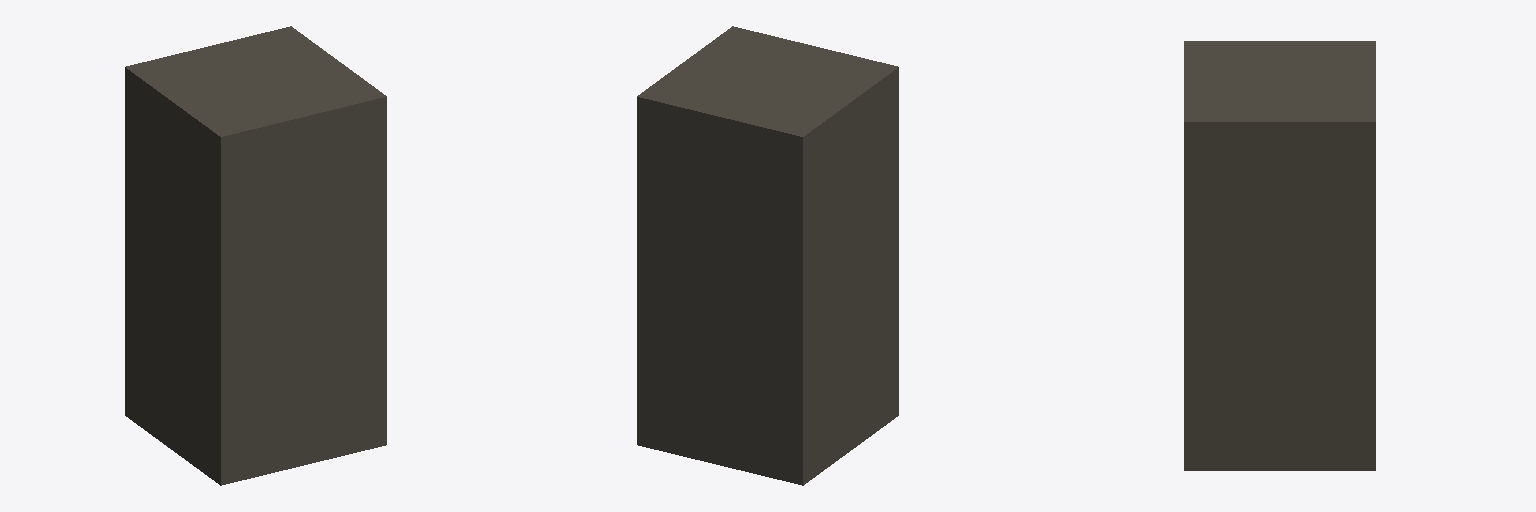
3 views of the same model, side by side, from view 1: azimuth 30°, elevation 25°; view 2: azimuth 150°, elevation 25°; view 3: azimuth 270°, elevation 25° (orthographic).
Parts seen in each view (by area): view 1: Untitled; view 2: Untitled; view 3: Untitled.
Part boxes in pixels (x1,y1,x2,y2): Untitled: (125,26,386,485); Untitled: (637,26,898,485); Untitled: (1184,41,1375,470).
Size of the model in its own units: 1 by 2 by 1.
Materials: 1 (1 with a texture image).